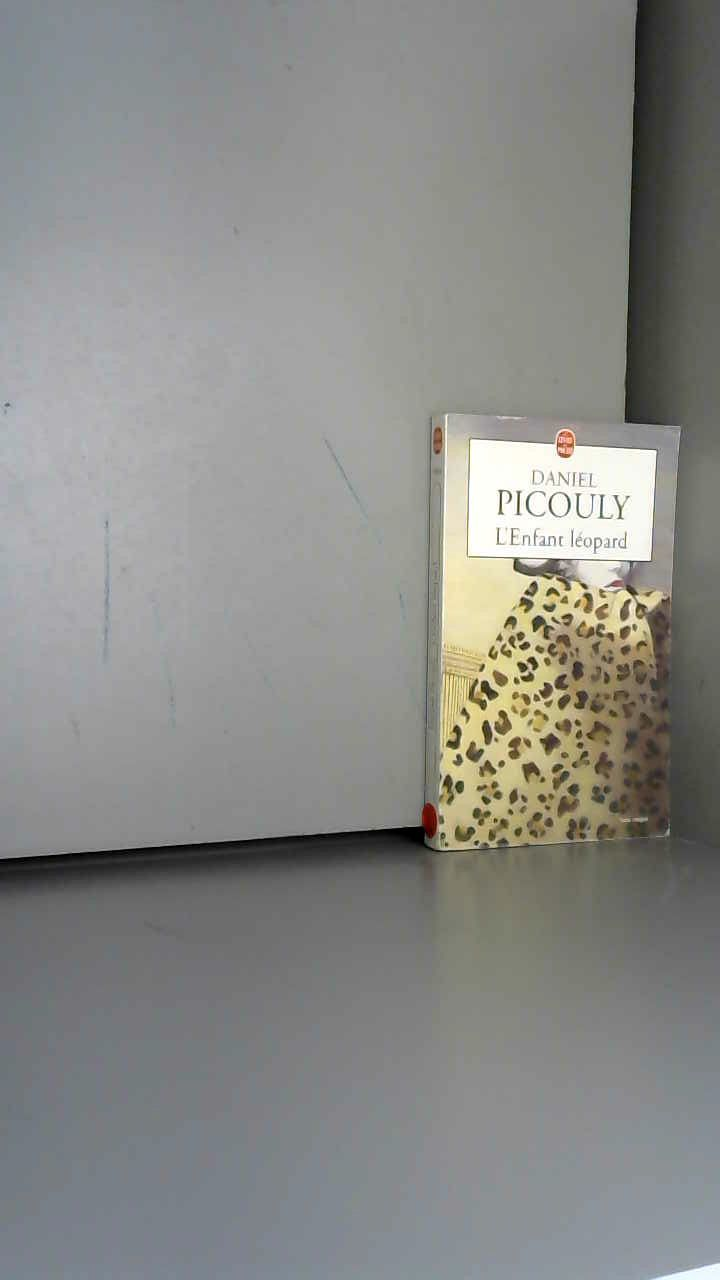book: (410, 390, 715, 878)
